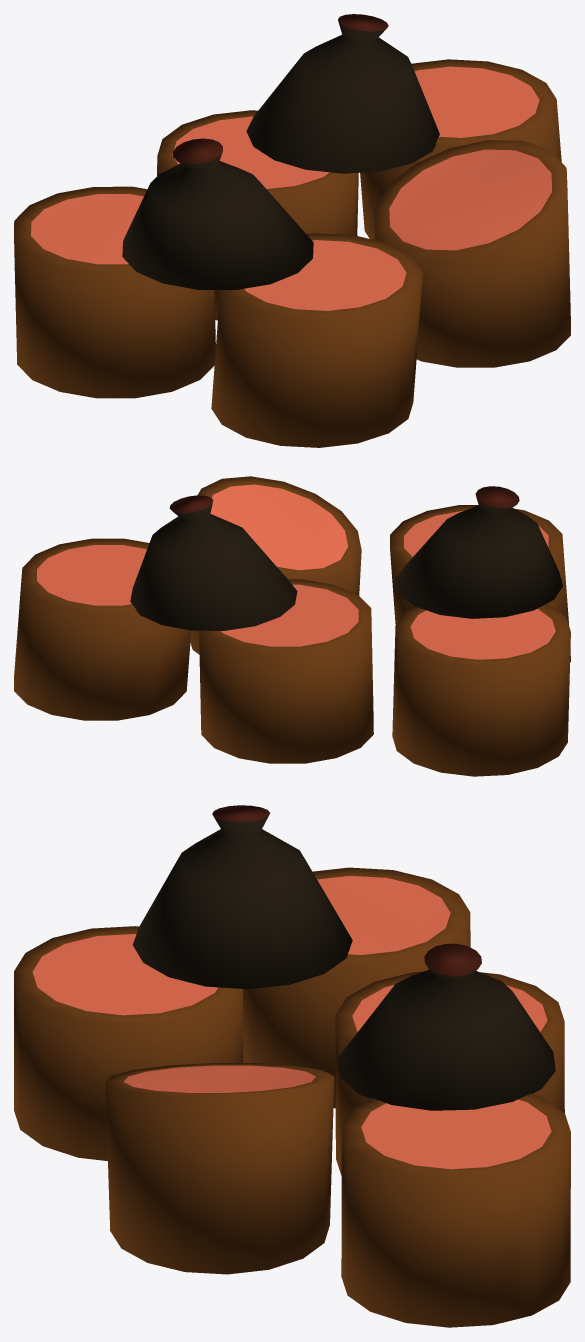
Rendered from hotdogslices.fbx.
The picture shows the model from 3 angles, top to bottom: view 1: azimuth 30°, elevation 25°; view 2: azimuth 150°, elevation 25°; view 3: azimuth 270°, elevation 25°; orthographic projection. The views are drawn at different scales.
Parts seen in each view (by area): view 1: HotdogSlice.003, HotdogSLice.004, HotdogSlice.002, HotdogSlice.006, HotdogSlice.005, HotdogSlice, HotdogSlice.001; view 2: HotdogSlice.002, HotdogSlice.001, HotdogSlice, HotdogSlice.006, HotdogSlice.005, HotdogSLice.004, HotdogSlice.003; view 3: HotdogSlice, HotdogSLice.004, HotdogSlice.003, HotdogSlice.005, HotdogSlice.006, HotdogSlice.002, HotdogSlice.001.
Part boxes in pixels (left/top/right/bottom): HotdogSlice.003: left=211, top=233, right=422, bottom=447; HotdogSLice.004: left=374, top=140, right=570, bottom=367; HotdogSlice.002: left=14, top=186, right=215, bottom=398; HotdogSlice.006: left=246, top=14, right=439, bottom=173; HotdogSlice.005: left=122, top=138, right=313, bottom=289; HotdogSlice: left=360, top=59, right=561, bottom=239; HotdogSlice.001: left=157, top=110, right=358, bottom=320; HotdogSlice.002: left=392, top=604, right=570, bottom=776; HotdogSlice.001: left=199, top=579, right=373, bottom=763; HotdogSlice: left=14, top=538, right=191, bottom=720; HotdogSlice.006: left=130, top=495, right=297, bottom=630; HotdogSlice.005: left=395, top=486, right=562, bottom=618; HotdogSLice.004: left=190, top=476, right=361, bottom=654; HotdogSlice.003: left=390, top=505, right=570, bottom=662; HotdogSlice: left=341, top=1093, right=570, bottom=1327; HotdogSLice.004: left=105, top=1063, right=334, bottom=1274; HotdogSlice.003: left=14, top=926, right=243, bottom=1160; HotdogSlice.005: left=133, top=805, right=352, bottom=989; HotdogSlice.006: left=337, top=943, right=555, bottom=1110; HotdogSlice.002: left=243, top=867, right=470, bottom=1108; HotdogSlice.001: left=335, top=971, right=564, bottom=1175.
Size of the model in its own units: 31.63 by 12.59 by 23.55.
